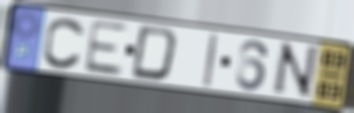6: (235, 39, 269, 92)
C: (41, 15, 88, 71)
D: (128, 24, 180, 84)
E: (81, 18, 129, 78)
I: (202, 31, 221, 89)
N: (268, 41, 321, 101)
